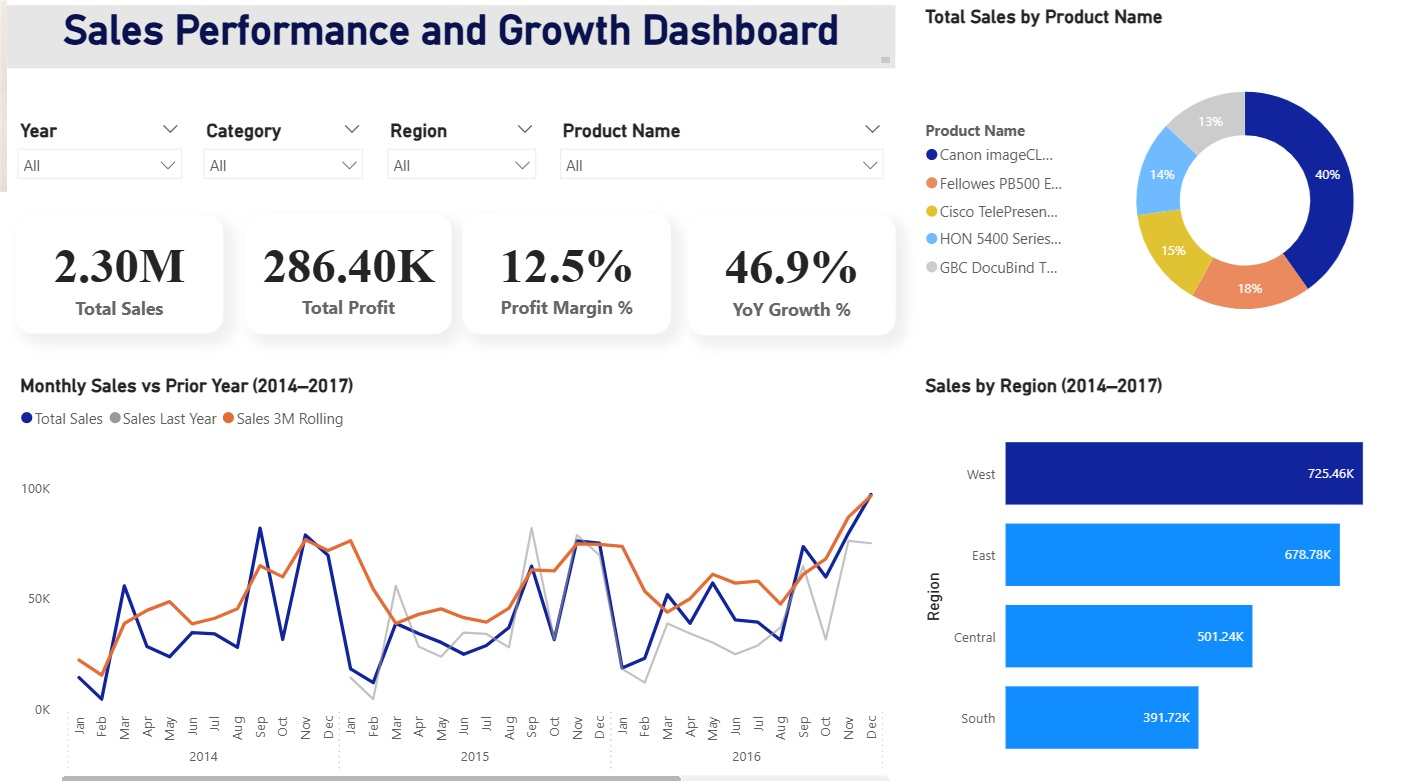

Layout of this report page (visuals, bound fields, positions):
{"tool":"powerbi","page":{"name":"Monthly Sales Trend vs Prior Year (2014–2017)","canvas":[1280,720],"ordinal":0},"visuals":[{"type":"card","fields":{"Values":["Date.Total Sales"]},"box":[8.4,200.3,188.5,108.1],"z":0},{"type":"card","fields":{"Values":["Date.Total Profit"]},"box":[216.1,199.1,187.3,109.3],"z":1000},{"type":"card","fields":{"Values":["Date.Profit Margin %"]},"box":[413.1,199.1,188.5,109.3],"z":2000},{"type":"card","fields":{"Values":["Date.YoY Growth %"]},"box":[616,200.3,188.5,109.3],"z":3000},{"type":"slicer","fields":{"Values":["Date.Year"]},"box":[0,109.8,168.9,69.8],"z":4000},{"type":"slicer","fields":{"Values":["Sales.Region"]},"box":[335,109.8,154.9,64.2],"z":5000},{"type":"slicer","fields":{"Values":["Sales.Category"]},"box":[168.9,109.8,164.7,64.2],"z":6000},{"type":"clusteredBarChart","title":"Sales by Region (2014–2017)","fields":{"Category":["Sales.Region"],"Y":["Date.Total Sales"]},"box":[826.1,344.6,453.9,375.8],"z":7000},{"type":"lineChart","fields":{"Y":["Date.Total Sales","Date.Sales Last Year"],"Category":["Date.Year","Date.Month"],"Y2":["Date.Sales 3M Rolling"]},"box":[8.4,344.6,796.1,375.8],"z":8000},{"type":"slicer","fields":{"Values":["Sales.Product Name"]},"box":[491.1,109.3,313.4,63.6],"z":9000},{"type":"donutChart","fields":{"Category":["Sales.Product Name"],"Y":["Date.Total Sales"]},"box":[826.1,10.8,453.9,333.8],"z":10000},{"type":"textbox","title":"Sales Performance and Growth Dashboard","box":[1.2,10.8,803.3,57],"z":11000}]}

Visuals, with their boxes in screenshot pixels (x1, y1, x2, y2), scaled from the page's 1280x720 canvas onto the 1420x782 screenshot:
card - Date.Total Sales: (x1=9, y1=218, x2=218, y2=335)
card - Date.Total Profit: (x1=240, y1=216, x2=448, y2=335)
card - Date.Profit Margin %: (x1=458, y1=216, x2=667, y2=335)
card - Date.YoY Growth %: (x1=683, y1=218, x2=892, y2=336)
slicer - Date.Year: (x1=0, y1=119, x2=187, y2=195)
slicer - Sales.Region: (x1=372, y1=119, x2=543, y2=189)
slicer - Sales.Category: (x1=187, y1=119, x2=370, y2=189)
"Sales by Region (2014–2017)" clusteredBarChart: (x1=916, y1=374, x2=1419, y2=781)
lineChart - Date.Total Sales x Date.Sales Last Year: (x1=9, y1=374, x2=892, y2=781)
slicer - Sales.Product Name: (x1=545, y1=119, x2=892, y2=188)
donutChart - Sales.Product Name x Date.Total Sales: (x1=916, y1=12, x2=1419, y2=374)
"Sales Performance and Growth Dashboard" textbox: (x1=1, y1=12, x2=892, y2=74)
